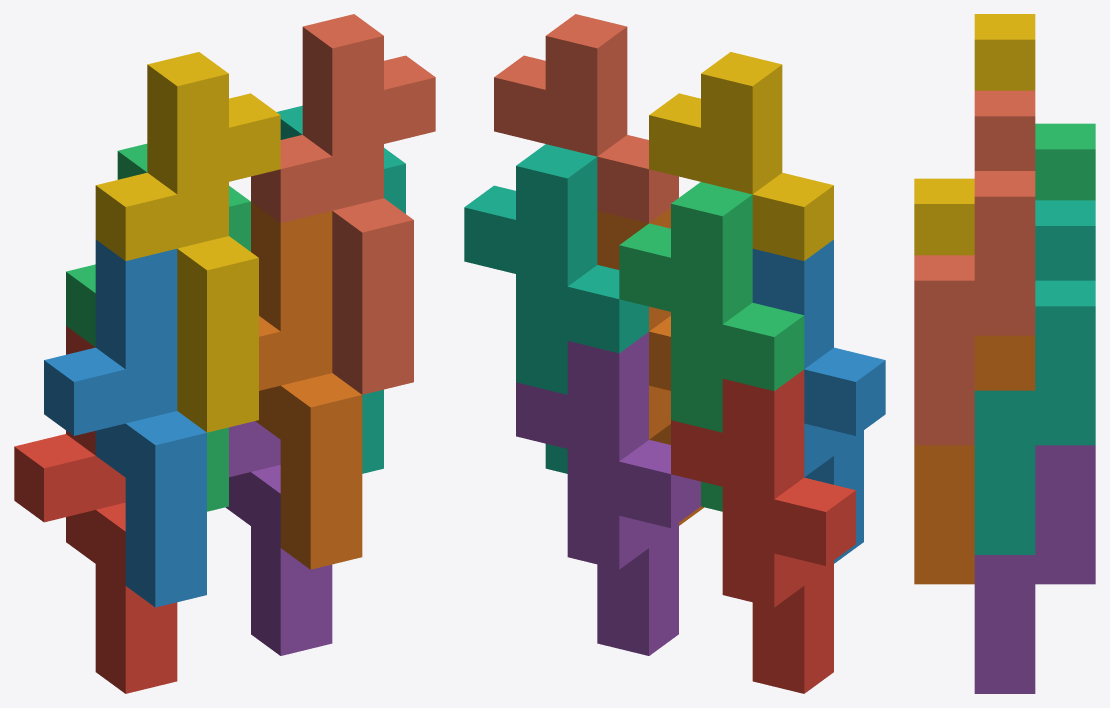
File: tiling.obj
The picture shows the model from 3 angles, left to right: view 1: azimuth 30°, elevation 25°; view 2: azimuth 150°, elevation 25°; view 3: azimuth 270°, elevation 25°; orthographic projection.
Visible parts, largest first — view 1: copy_1_domain_4, copy_1_domain_8, copy_1_domain_2, copy_1_domain_6, copy_1_domain_1, copy_1_domain_5, copy_1_domain_3, copy_1_domain_7; view 2: copy_1_domain_1, copy_1_domain_5, copy_1_domain_3, copy_1_domain_7, copy_1_domain_4, copy_1_domain_8, copy_1_domain_2, copy_1_domain_6; view 3: copy_1_domain_8, copy_1_domain_7, copy_1_domain_5, copy_1_domain_6, copy_1_domain_4, copy_1_domain_3.
Part boxes in pixels (x1,y1,x2,y2): copy_1_domain_4: (95,52,280,432); copy_1_domain_8: (251,14,435,394); copy_1_domain_2: (44,239,206,607); copy_1_domain_6: (251,202,362,569); copy_1_domain_1: (14,326,177,693); copy_1_domain_5: (225,421,332,655); copy_1_domain_3: (66,143,250,511); copy_1_domain_7: (277,105,405,473); copy_1_domain_1: (671,369,855,693); copy_1_domain_5: (516,332,700,655); copy_1_domain_3: (619,182,804,511); copy_1_domain_7: (464,144,648,473); copy_1_domain_4: (649,52,833,260); copy_1_domain_8: (494,14,678,223); copy_1_domain_2: (752,239,885,563); copy_1_domain_6: (597,207,703,525); copy_1_domain_8: (914,90,1035,445); copy_1_domain_7: (974,200,1095,554); copy_1_domain_5: (974,445,1095,693); copy_1_domain_6: (914,335,1035,584); copy_1_domain_4: (914,14,1035,255); copy_1_domain_3: (1035,123,1095,200).
Size of the model in its own units: 7 by 11 by 3.
